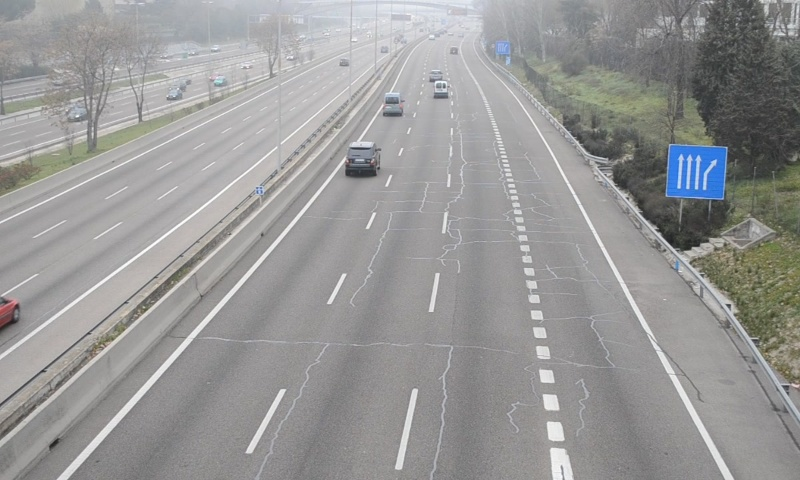car: (344, 142, 378, 175)
van: (382, 92, 402, 118)
